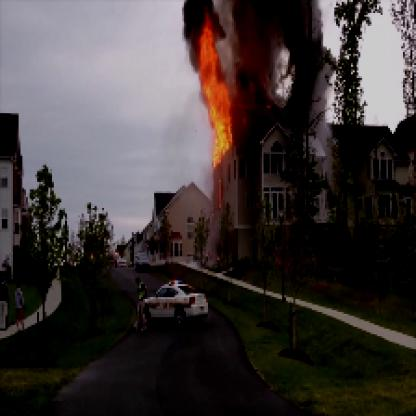Fire: (195, 10, 240, 166)
Smoke: (232, 2, 310, 145)
